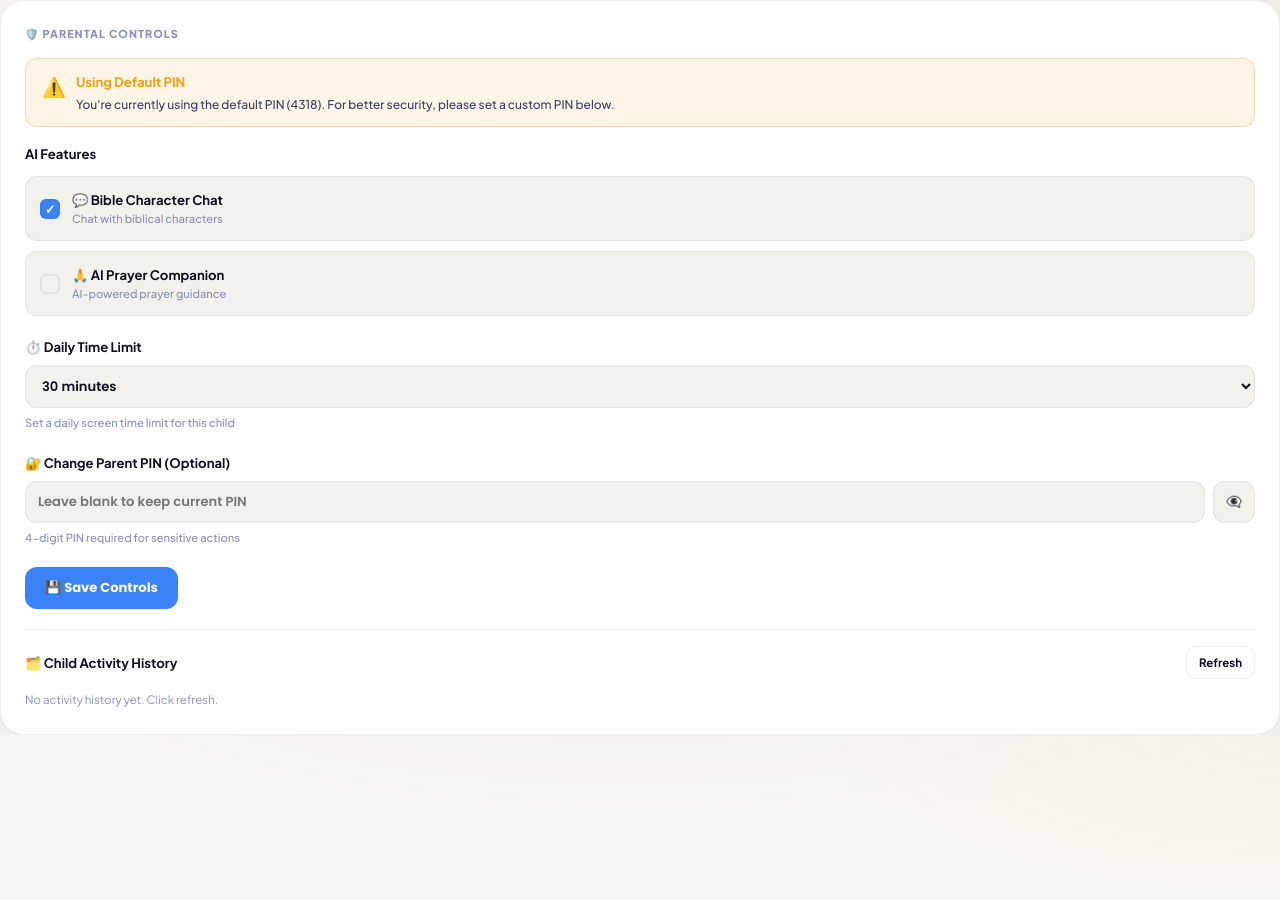
Test: ParentalControlsPanel › allows PIN entry via numeric pad
Click the button "💾 Save Controls" at (101, 588), box [25, 567, 178, 609]
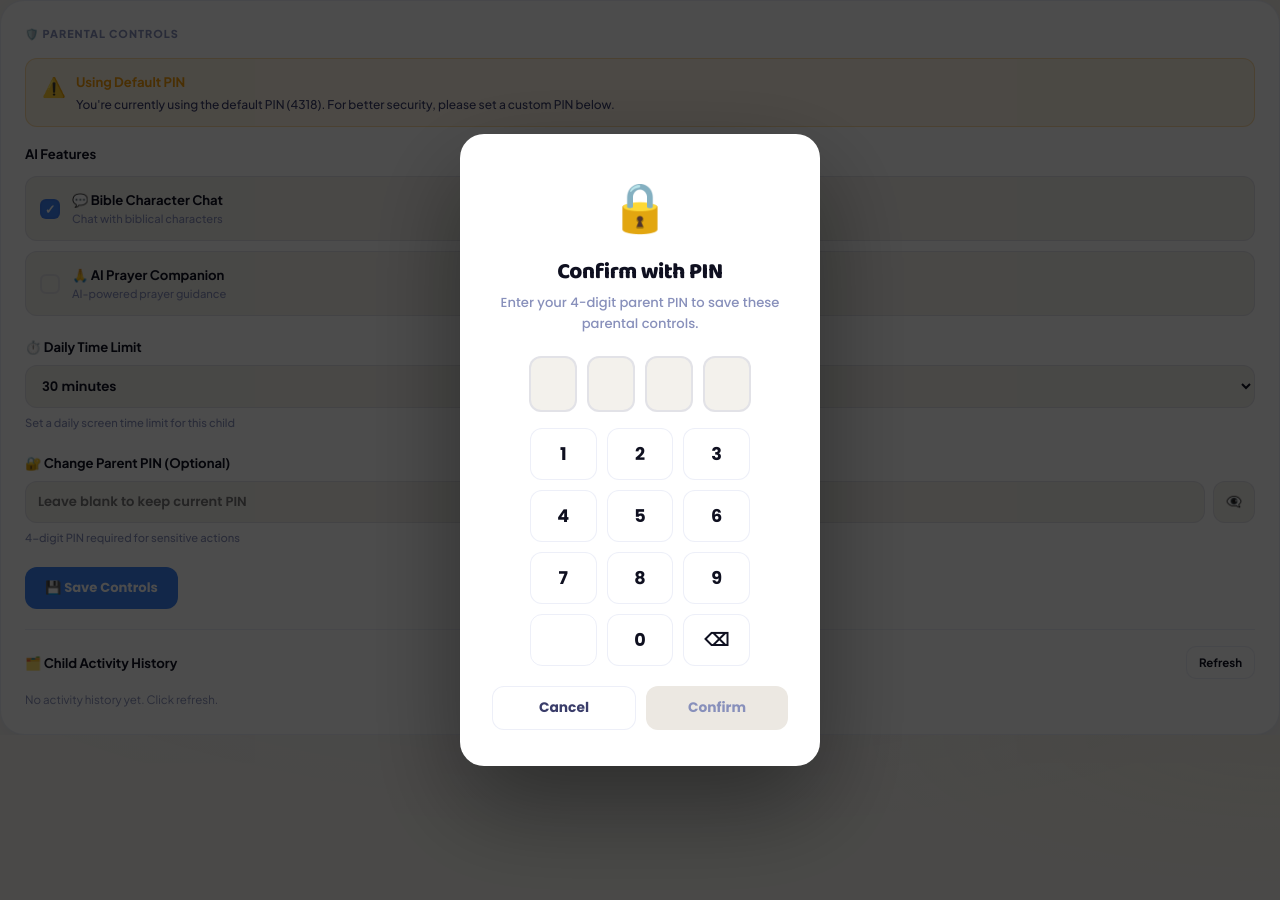
Click the button "1" at (563, 454), box [530, 428, 597, 480]
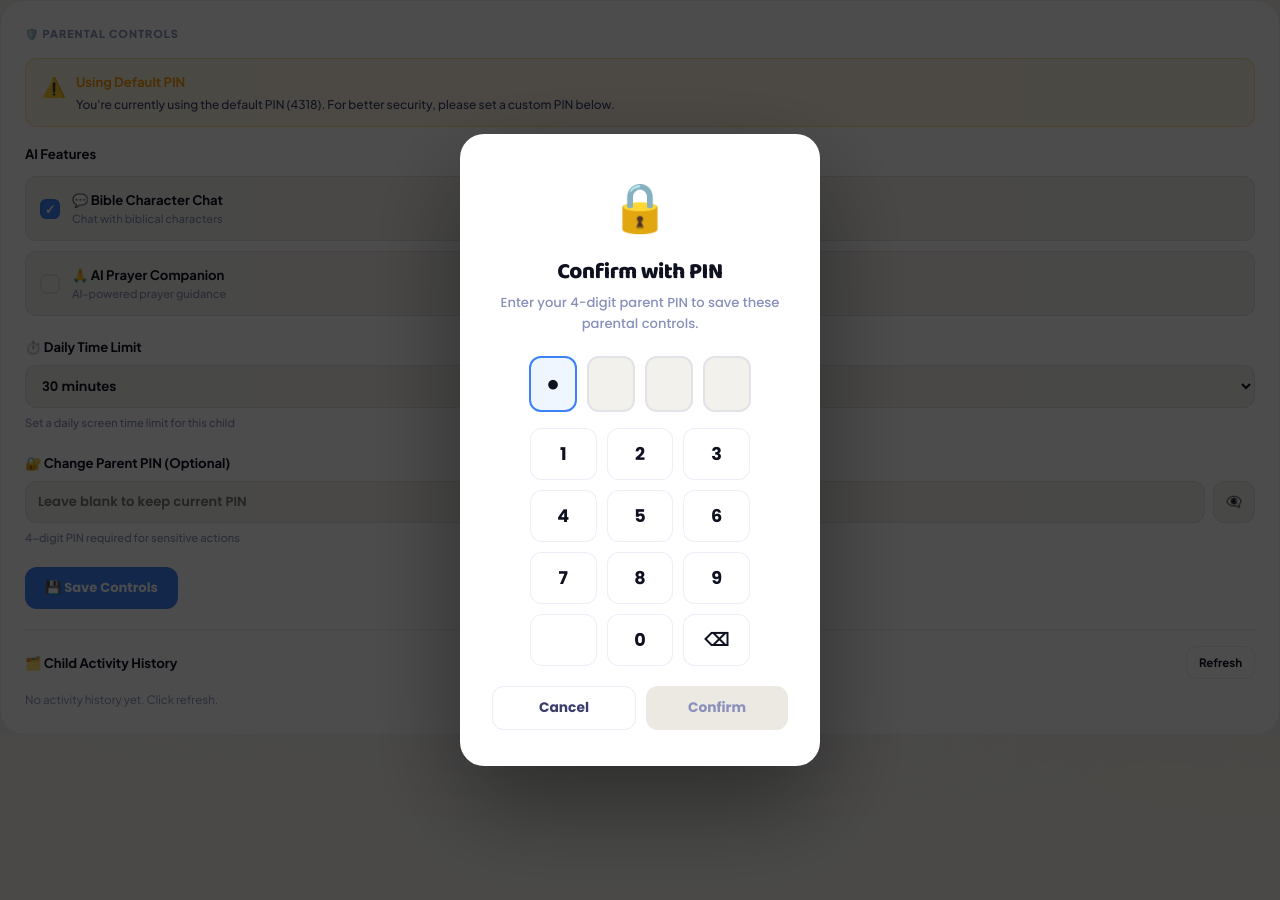
Expected: the text "●" is shown, [529, 356, 577, 412]
